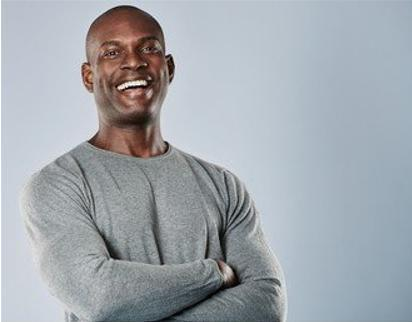Sober: (94, 17, 170, 117)
